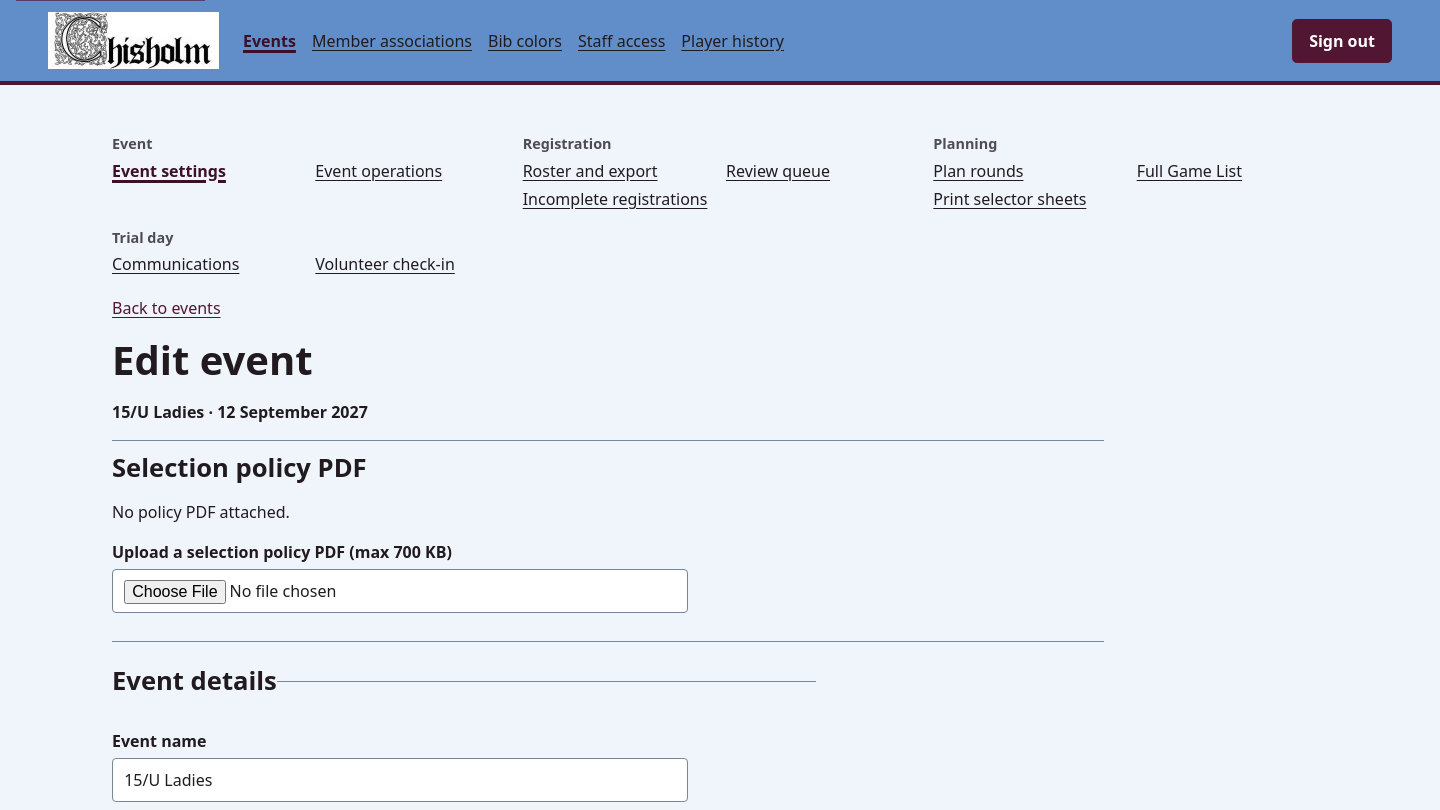
Test case: App route boundaries › keeps operational controls off settings and opens them from Event operations
Expected: the field labelled "Event name" is shown, [112,758,688,802]
Expected: the heading "Event controls" is not shown
Click the link "Event operations" at x=379, y=171, box [315,160,442,182]
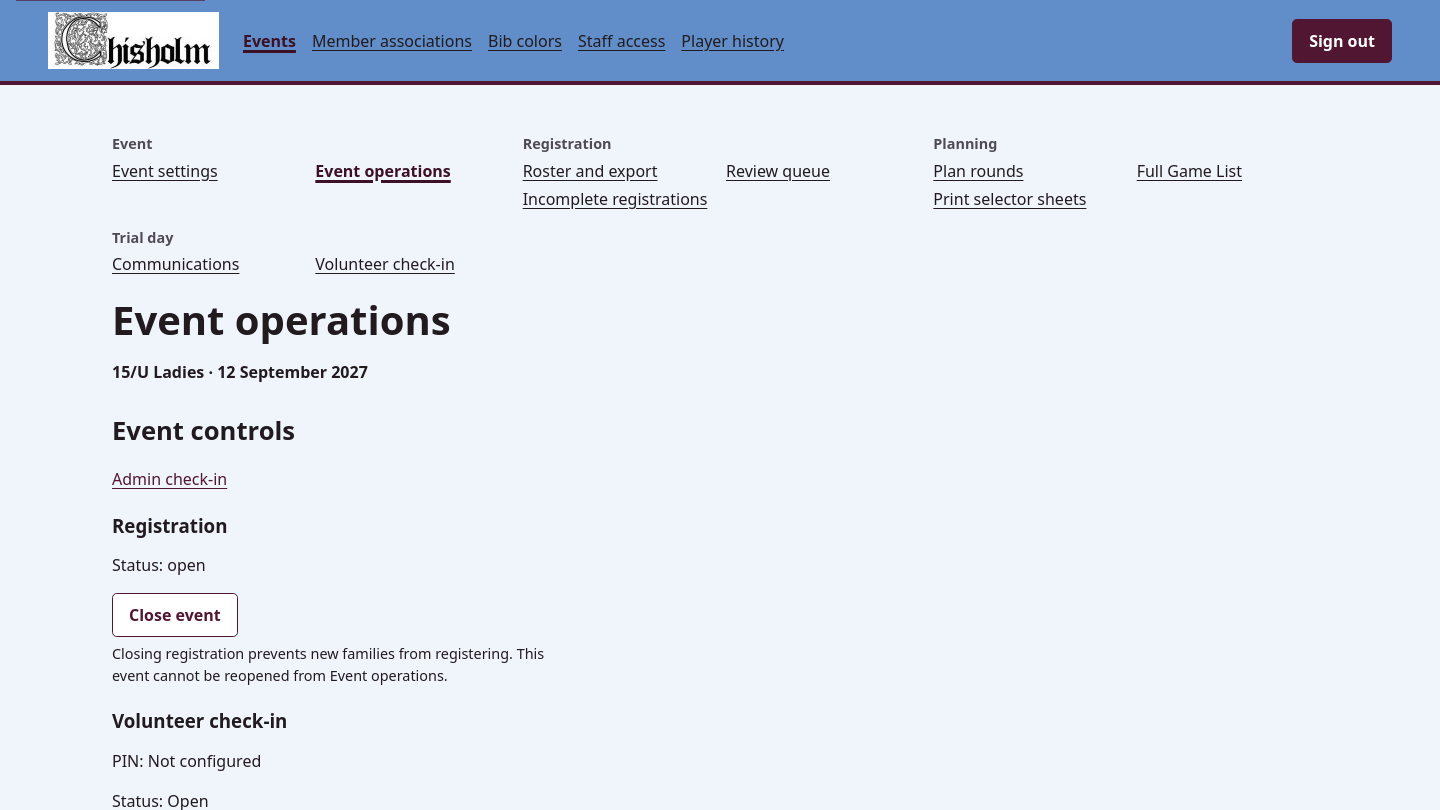
Expected: the text "15/U Ladies · 12 September 2027" is shown, [112,361,368,383]
Expected: the heading "Event operations" is shown, [112,292,451,347]
Expected: the heading "Event controls" is shown, [112,413,295,448]
